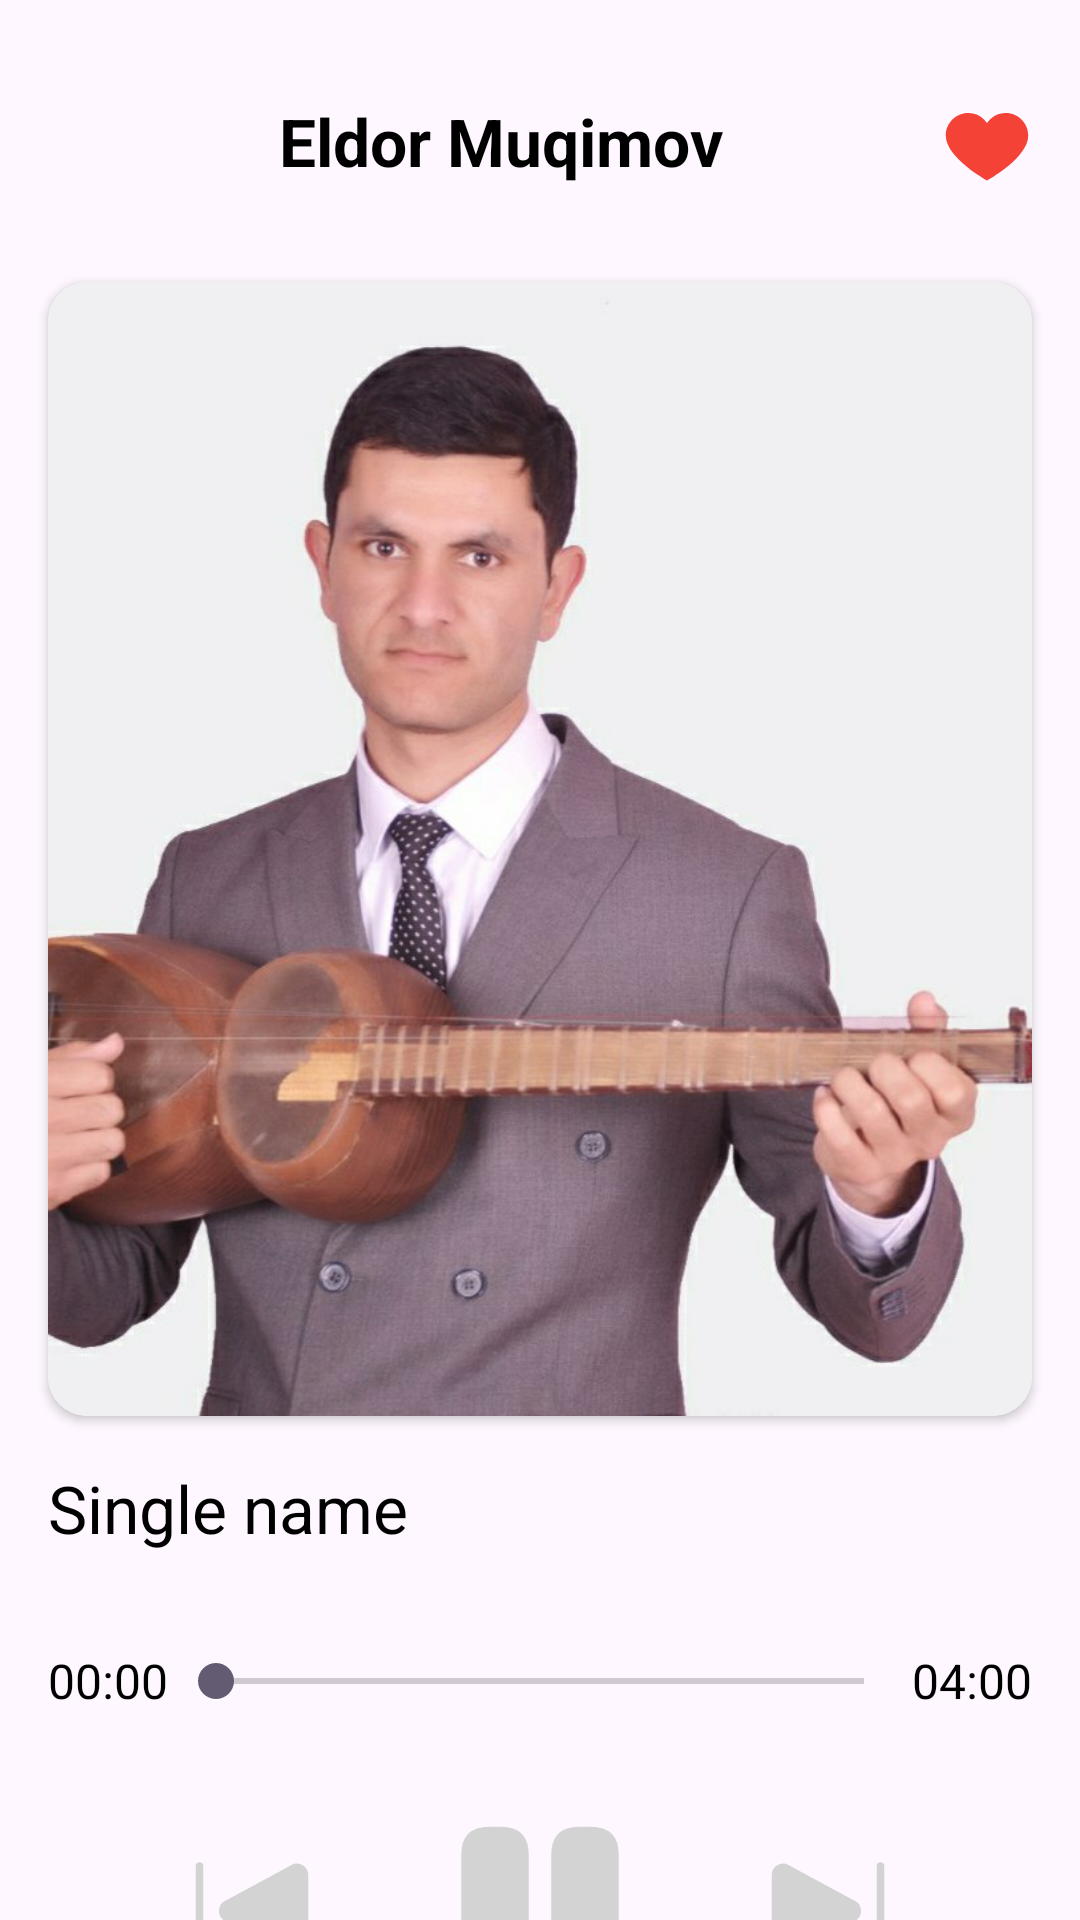

Locate icon controls on the screen. Image size 1080 × 1920, boxes as [x1, y1, x2, y2].
like: [945, 113, 1029, 181]
